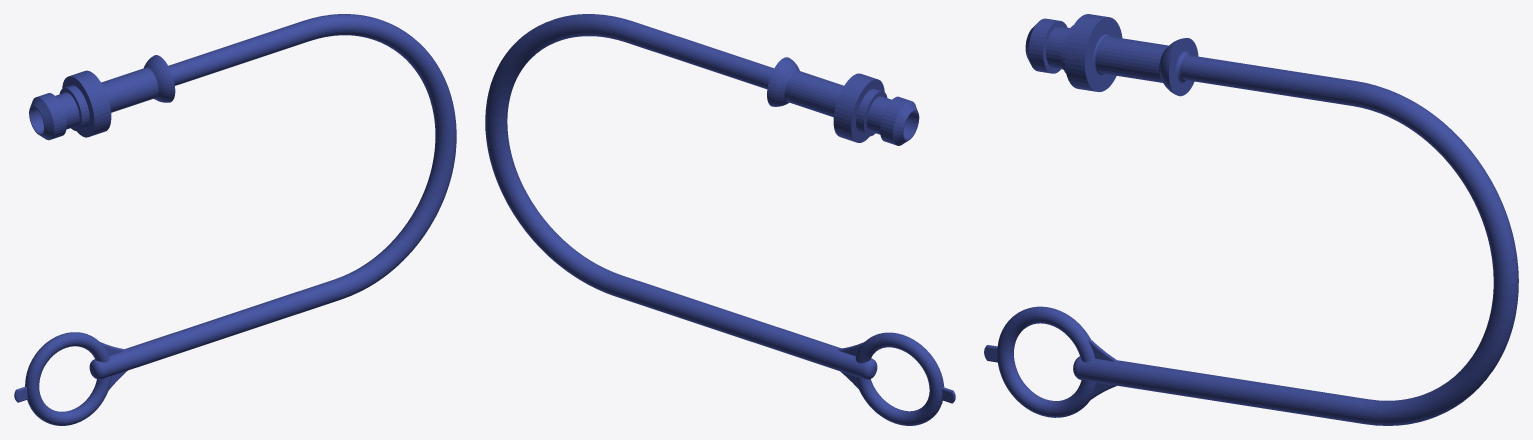
3 views of the same model, side by side, from view 1: azimuth 30°, elevation 25°; view 2: azimuth 150°, elevation 25°; view 3: azimuth 330°, elevation 25° (orthographic). The views are drawn at different scales.
Visible parts, largest first — view 1: 10293959; view 2: 10293959; view 3: 10293959.
Part boxes in pixels (<box>): 10293959: <box>14,14,456,425</box>; 10293959: <box>485,14,955,425</box>; 10293959: <box>984,14,1518,425</box>.
Size of the model in its own units: 1 by 0.7176 by 0.1242.
